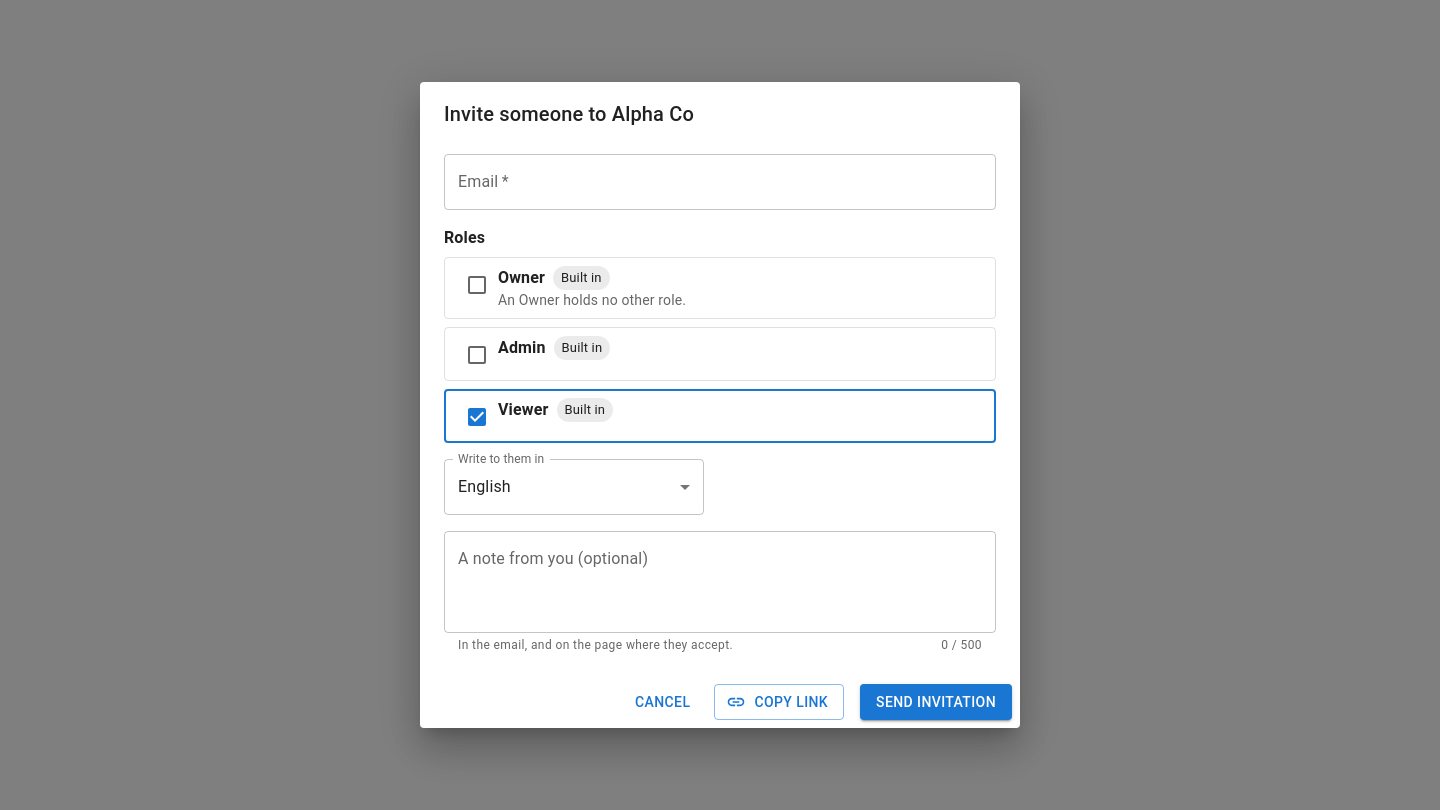
Test: InviteDialog (ADR-077) › says the server’s words when the lists still lack what a refusal names
The image size is (1440, 810).
In the field labelled "Email": (720, 182) left=444, top=154, right=996, bottom=210, type "sam@example.com"
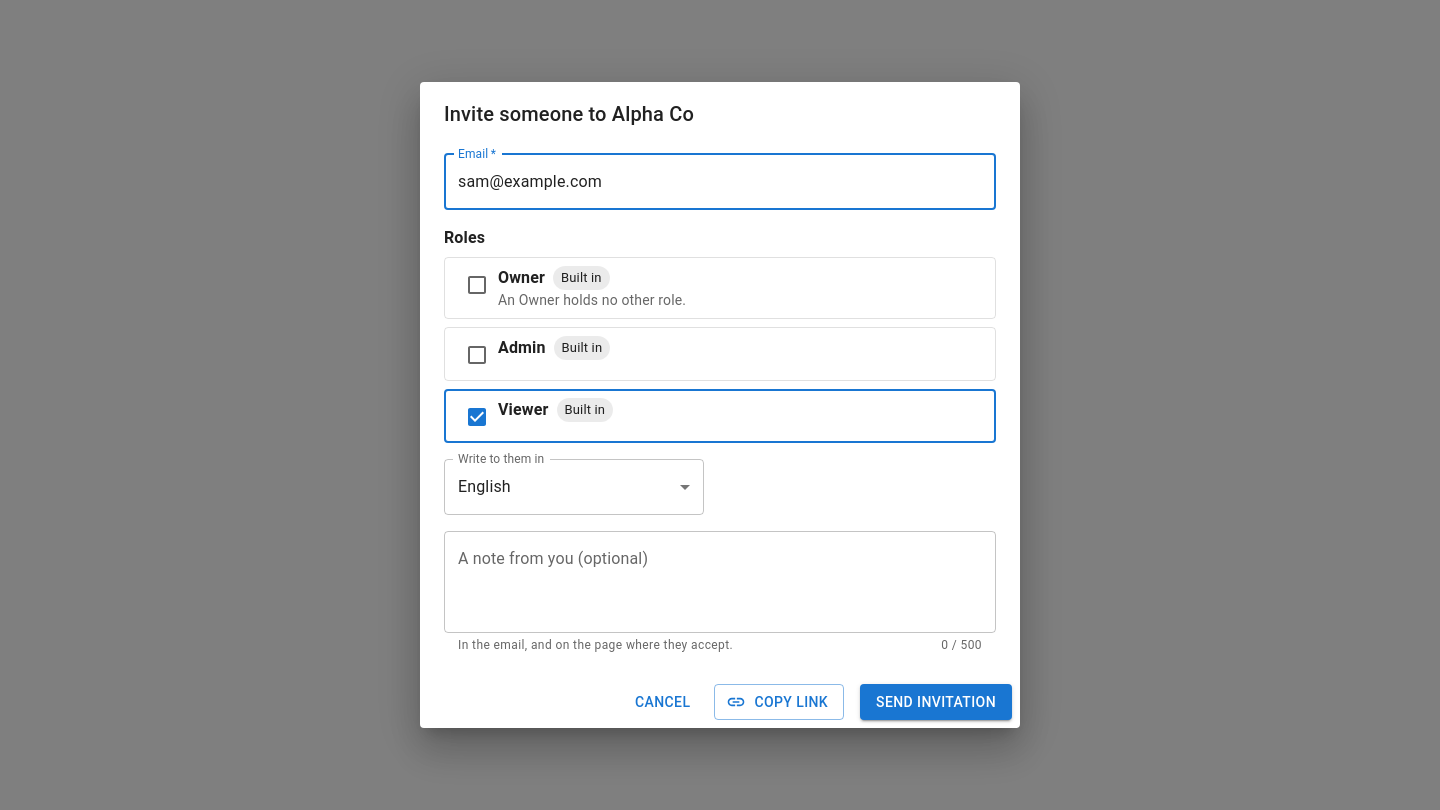
Click the button "Send invitation": (936, 702) left=860, top=684, right=1012, bottom=720
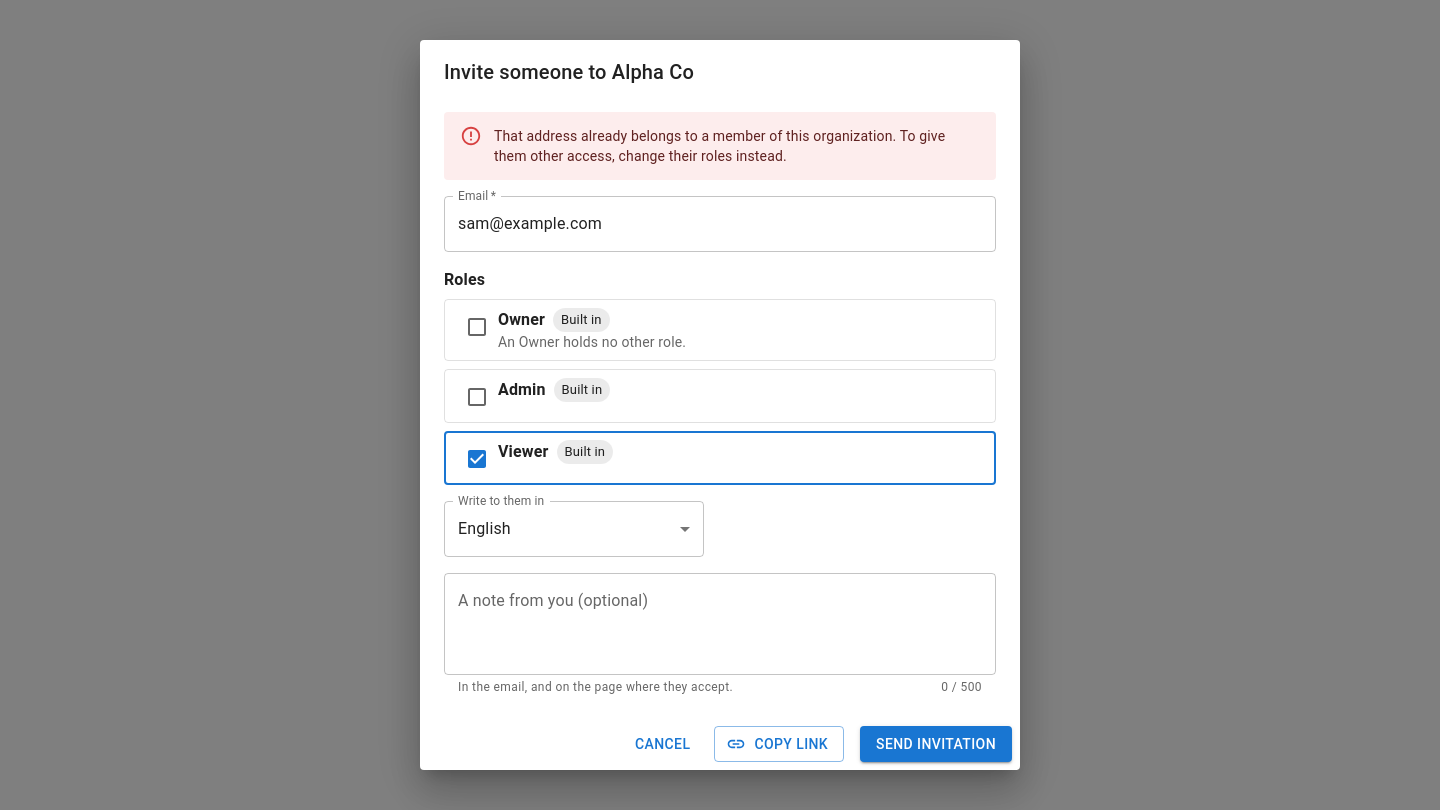
Expected: the text "That address already belongs to a member of this organization. To give them other access, change their roles instead." is shown, left=494, top=128, right=945, bottom=164
